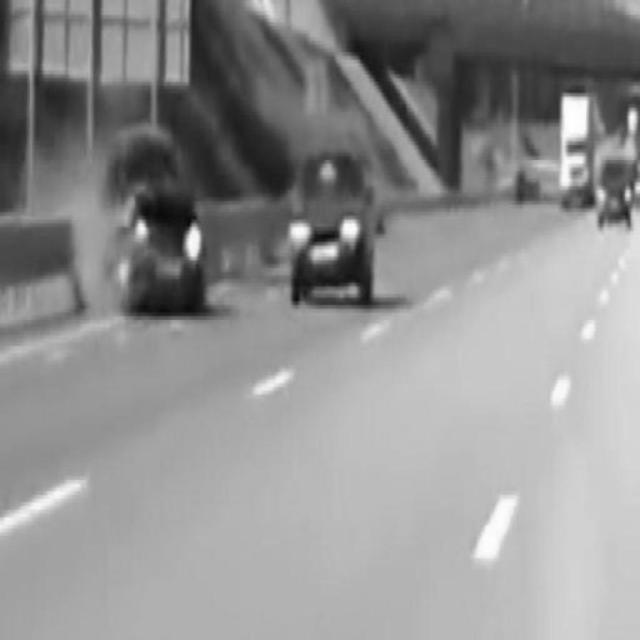vehicle: (94, 118, 212, 314), (281, 144, 383, 311), (549, 83, 603, 211), (588, 152, 639, 235)
